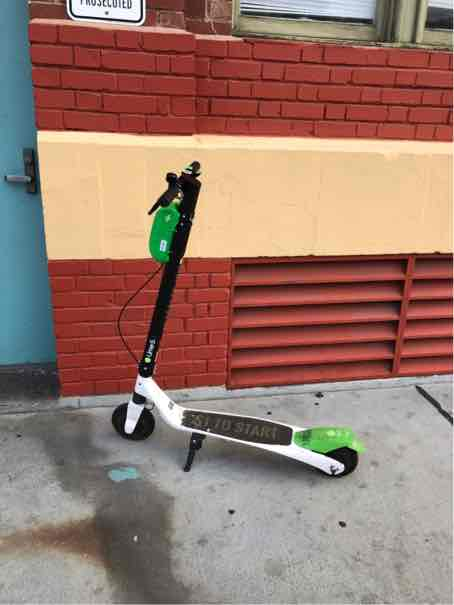scooter: (105, 145, 369, 496)
